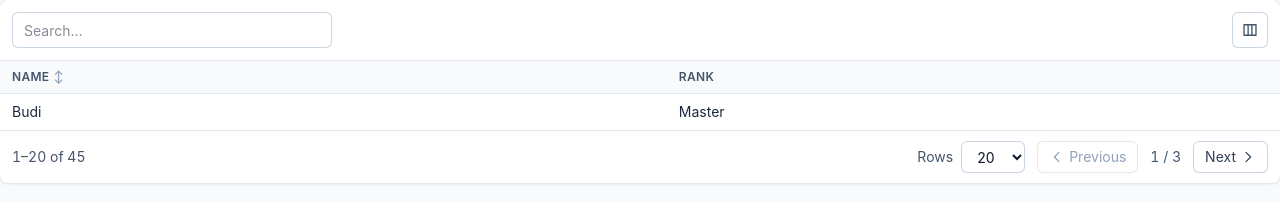
Test case: DataGrid › remembers hidden columns per browser
Expected: the text "Budi" is shown, [0,94,667,130]
Click the button named "Columns".
click(1250, 30)  # box [1232,12,1268,48]
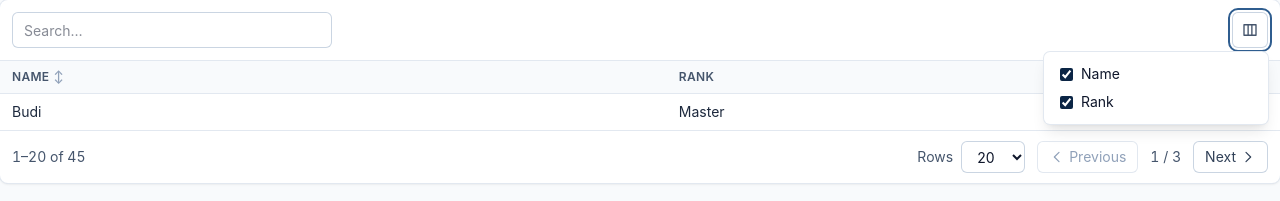
Click the checkbox labelled "Rank".
click(1066, 102)  # box [1060,96,1073,108]
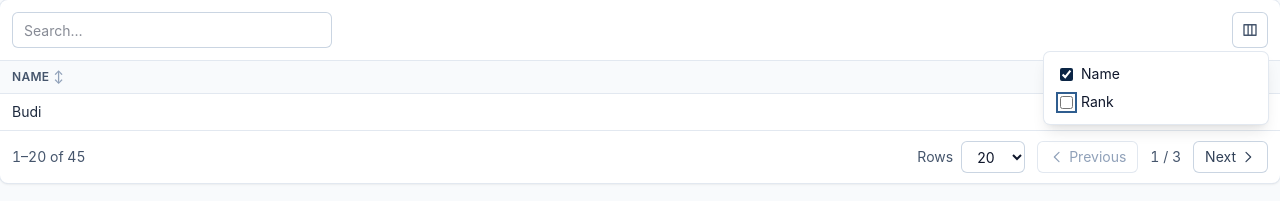
Expected: the text "Master" is gone
